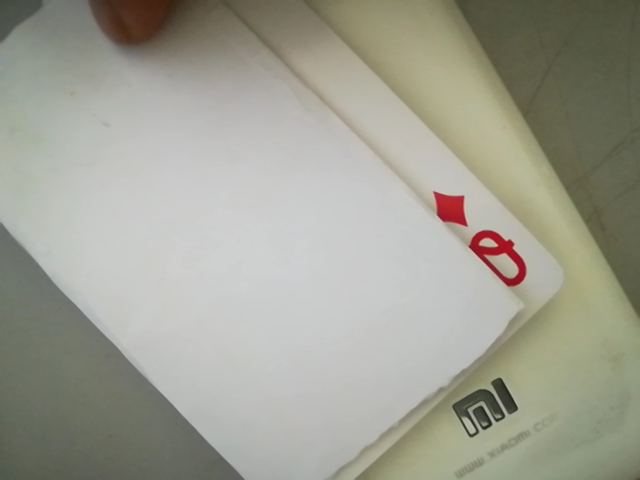fk q: (425, 185, 544, 292)
